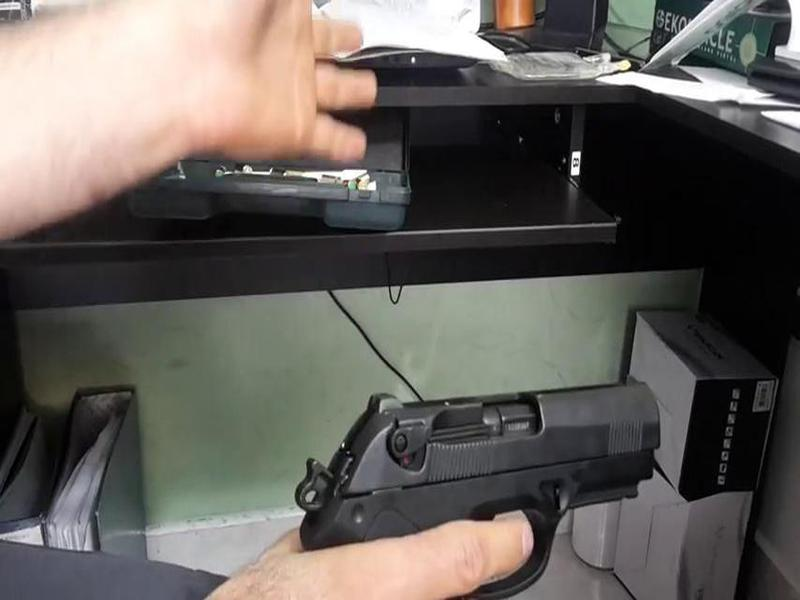Pistola: (284, 352, 661, 600)
